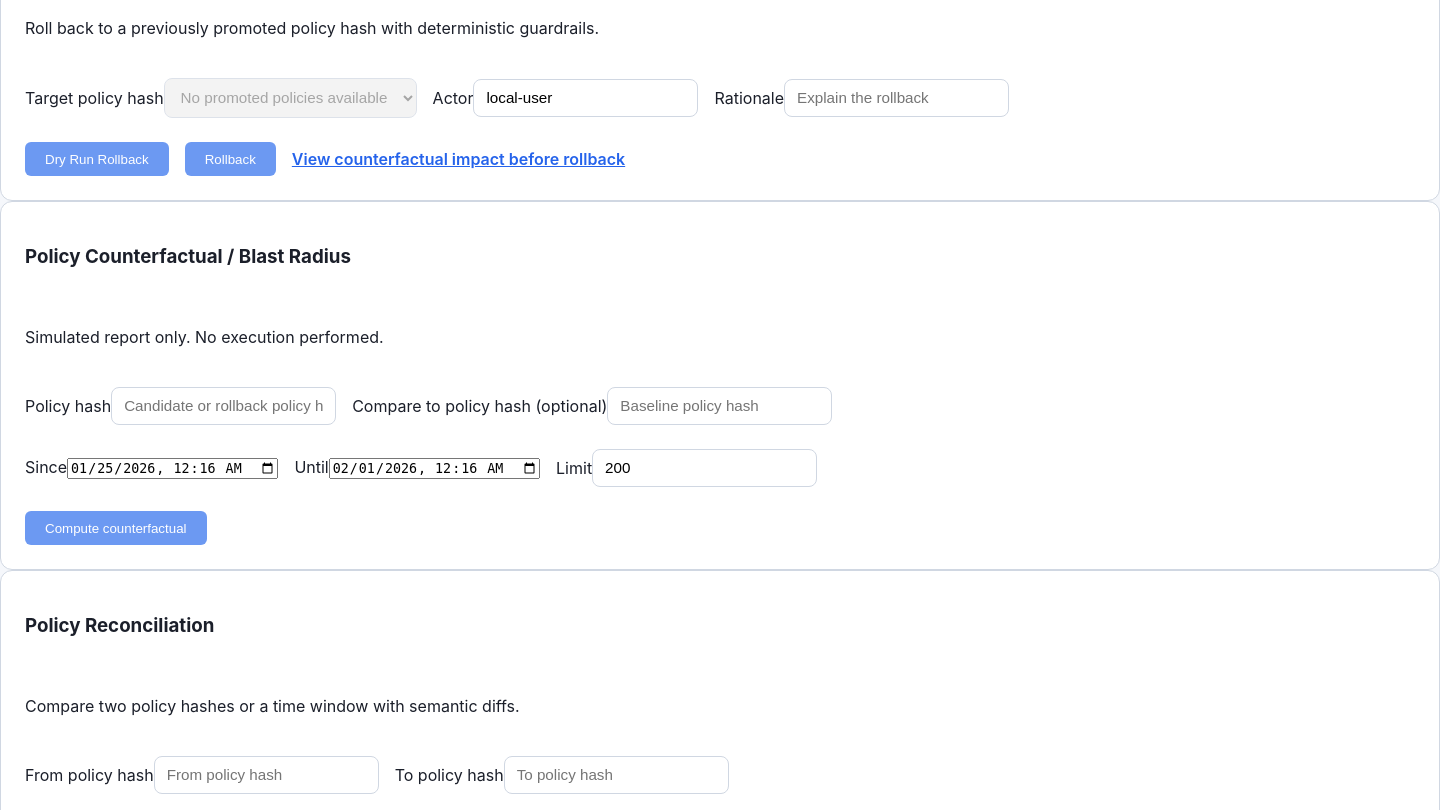
Test: counterfactual panel renders summary and outcomes
(page scrolled)
Check: the element "Policy Counterfactual" is shown, box [0,201,1439,570]
Type "policy-candidate" into the field labelled "Policy hash".
click(224, 406); type("policy-candidate")  # box [111,387,336,425]
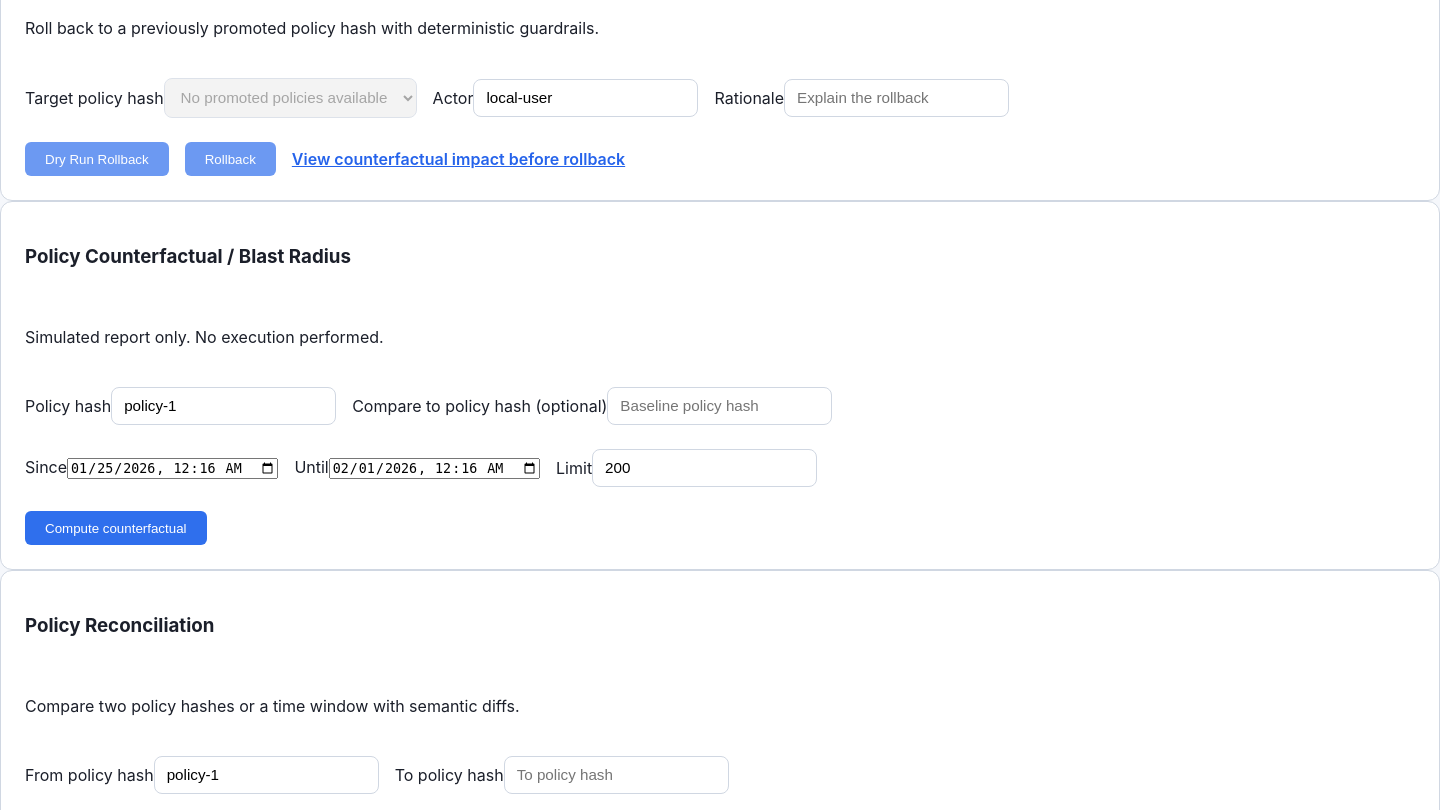
Type "policy-baseline" into the field labelled "Compare to policy hash (optional)".
click(720, 406); type("policy-baseline")  # box [607,387,832,425]
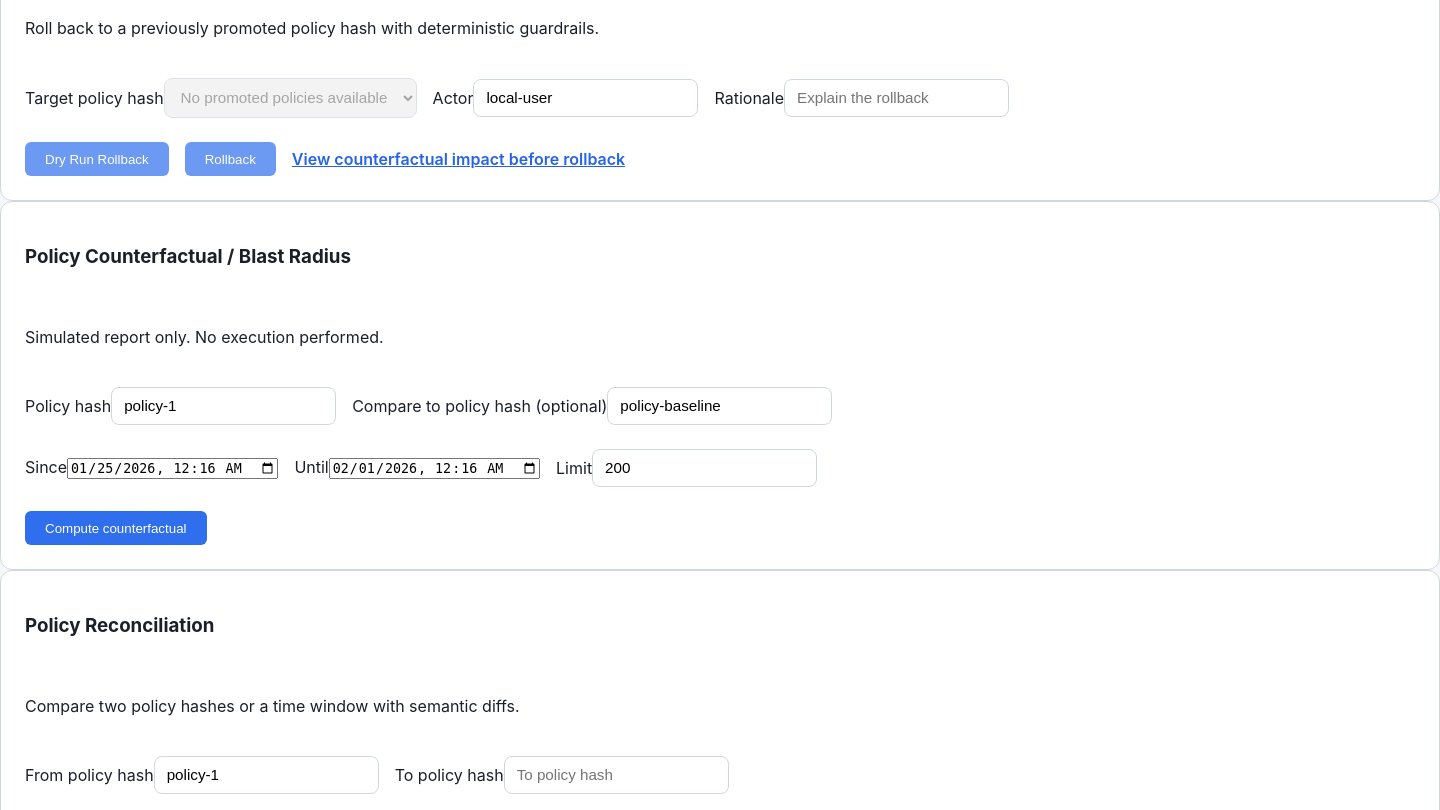
Click the button "Compute counterfactual".
click(116, 528)  # box [25,511,206,545]
(page scrolled)
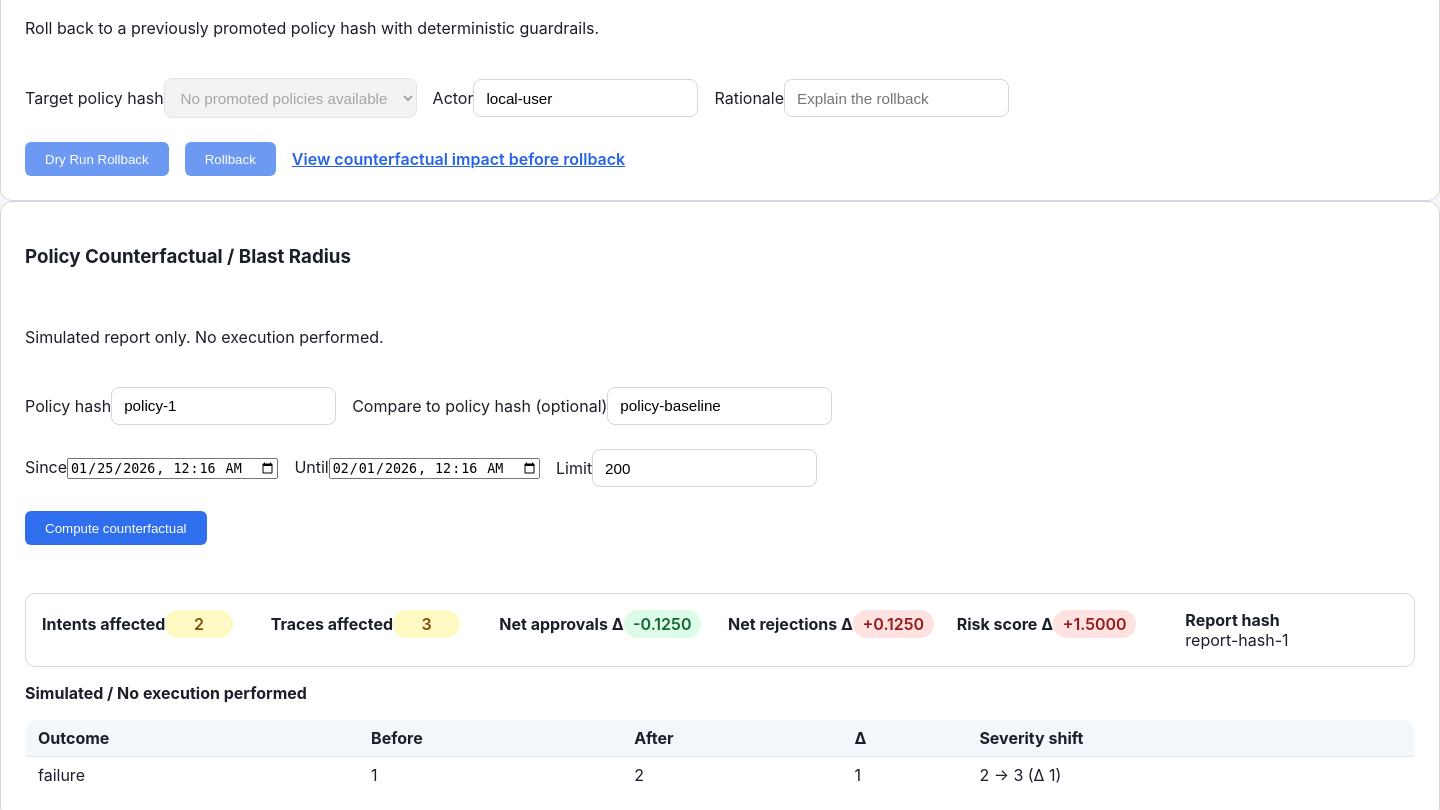
Check: the text "Simulated / No execution performed" is shown, box [25,683,307,703]
Check: the text "Intents affected" is shown, box [42,614,165,634]
Check: the text "failure" is shown, box [26,757,359,794]
